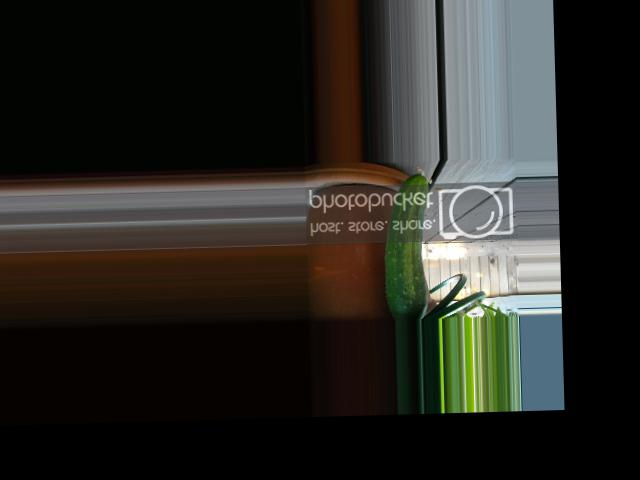cucumber: (382, 166, 432, 319)
